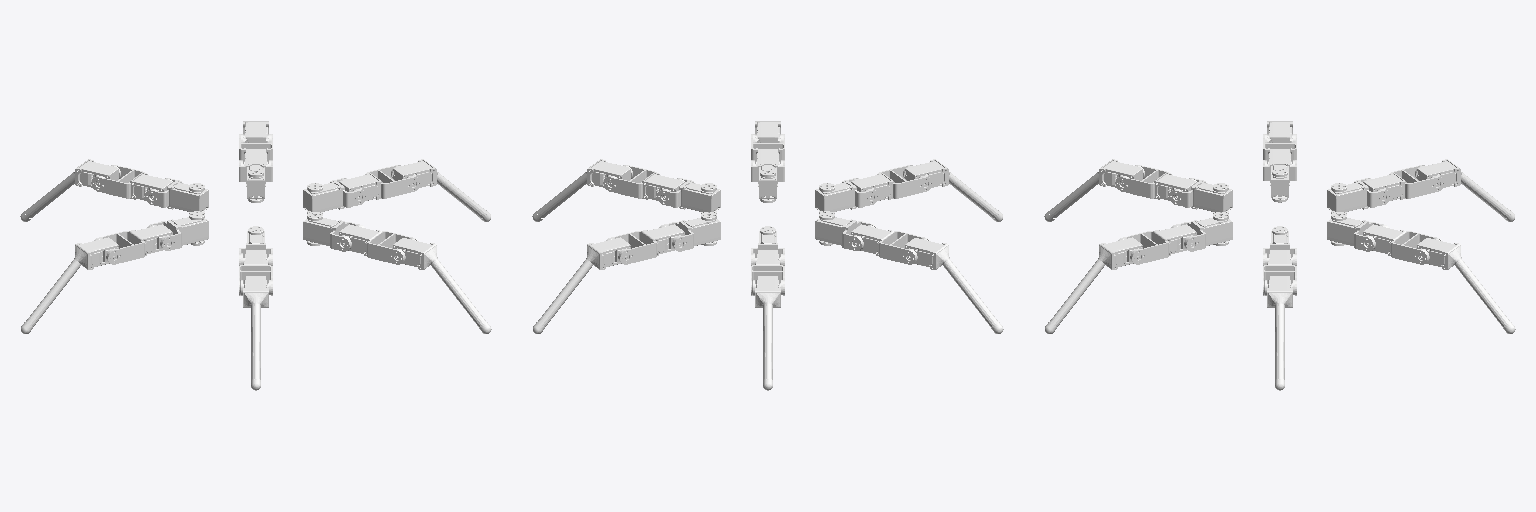
URDF robot description (grasp_hexapod):
<?xml version="1.0" encoding="utf-8"?>
<!-- This URDF was automatically created by SolidWorks to URDF Exporter! Originally created by Stephen Brawner (brawner@gmail.com) 
     Commit Version: 1.6.0-4-g7f85cfe  Build Version: 1.6.7995.38578
     For more information, please see http://wiki.ros.org/sw_urdf_exporter -->
<robot
  name="grasp_hexapod">
  <link
    name="base_link">
    <inertial>
      <origin
        xyz="0.00048381 0.0032191 0.050559"
        rpy="0 0 0" />
      <mass
        value="3" />
      <inertia
        ixx="0.00045119"
        ixy="1.4679E-06"
        ixz="-1.2424E-07"
        iyy="0.00050737"
        iyz="-7.1838E-07"
        izz="0.00089983" />
    </inertial>
    <visual>
      <origin
        xyz="0 0 0"
        rpy="0 0 0" />
      <geometry>
        <mesh
          filename="../meshes/body_link.STL" />
      </geometry>
      <material
        name="">
        <color
          rgba="1 1 1 1" />
      </material>
    </visual>
    <collision>
      <origin
        xyz="0 0 0"
        rpy="0 0 0" />
      <geometry>
        <mesh
          filename="../meshes/body_link.STL" />
      </geometry>
    </collision>
  </link>
  <link
    name="lf_thigh_Link">
    <inertial>
      <origin
        xyz="0.019013 0.00032996 0.00086404"
        rpy="0 0 0" />
      <mass
        value="0.071" />
      <inertia
        ixx="2.5711E-06"
        ixy="1.9851E-08"
        ixz="-8.344E-08"
        iyy="2.9345E-06"
        iyz="-5.4072E-09"
        izz="4.3664E-06" />
    </inertial>
    <visual>
      <origin
        xyz="0 0 0"
        rpy="0 0 0" />
      <geometry>
        <mesh
          filename="../meshes/thigh_link.STL" />
      </geometry>
      <material
        name="">
        <color
          rgba="1 1 1 1" />
      </material>
    </visual>
    <collision>
      <origin
        xyz="0 0 0"
        rpy="0 0 0" />
      <geometry>
        <mesh
          filename="../meshes/thigh_link.STL" />
      </geometry>
    </collision>
  </link>
  <joint
    name="lf_thigh_joint"
    type="revolute">
    <origin
      xyz="-0.0425 0.073612 0.025246"
      rpy="0 0 2.0944" />
    <parent
      link="base_link" />
    <child
      link="lf_thigh_Link" />
    <axis
      xyz="0 0 -1" />
    <limit
      lower="-1.571"
      upper="0.698"
      effort="1.2"
      velocity="4" />
  </joint>
  <link
    name="lf_knee_Link">
    <inertial>
      <origin
        xyz="0.024 0.00029496 0.00079694"
        rpy="0 0 0" />
      <mass
        value="0.079" />
      <inertia
        ixx="3.459E-06"
        ixy="1.9852E-08"
        ixz="-8.3439E-08"
        iyy="6.155E-06"
        iyz="-5.4073E-09"
        izz="4.8098E-06" />
    </inertial>
    <visual>
      <origin
        xyz="0 0 0"
        rpy="0 0 0" />
      <geometry>
        <mesh
          filename="../meshes/knee_link.STL" />
      </geometry>
      <material
        name="">
        <color
          rgba="1 1 1 1" />
      </material>
    </visual>
    <collision>
      <origin
        xyz="0 0 0"
        rpy="0 0 0" />
      <geometry>
        <mesh
          filename="../meshes/knee_link.STL" />
      </geometry>
    </collision>
  </link>
  <joint
    name="lf_knee_joint"
    type="revolute">
    <origin
      xyz="0.05236 0 0"
      rpy="1.5708 0 0" />
    <parent
      link="lf_thigh_Link" />
    <child
      link="lf_knee_Link" />
    <axis
      xyz="0 0 -1" />
    <limit
      lower="-2.094"
      upper="2.094"
      effort="1.2"
      velocity="4" />
  </joint>
  <link
    name="lf_ankle_Link">
    <inertial>
      <origin
        xyz="0.037761 -0.014128 0.0005095"
        rpy="0 0 0" />
      <mass
        value="0.092" />
      <inertia
        ixx="9.9997E-06"
        ixy="8.2892E-06"
        ixz="-8.347E-08"
        iyy="1.1276E-05"
        iyz="-5.3773E-09"
        izz="1.9753E-05" />
    </inertial>
    <visual>
      <origin
        xyz="0 0 0"
        rpy="0 0 0" />
      <geometry>
        <mesh
          filename="../meshes/ankle_link.STL" />
      </geometry>
      <material
        name="">
        <color
          rgba="1 1 1 1" />
      </material>
    </visual>
    <collision>
      <origin
        xyz="0 0 0"
        rpy="0 0 0" />
      <geometry>
        <mesh
          filename="../meshes/ankle_link.STL" />
      </geometry>
    </collision>
  </link>
  <joint
    name="lf_ankle_joint"
    type="revolute">
    <origin
      xyz="0.07745 0 0.00015"
      rpy="0 0 0" />
    <parent
      link="lf_knee_Link" />
    <child
      link="lf_ankle_Link" />
    <axis
      xyz="0 0 -1" />
    <limit
      lower="-2.094"
      upper="2.094"
      effort="1.2"
      velocity="4" />
  </joint>
  <link
    name="lm_thigh_Link">
    <inertial>
      <origin
        xyz="0.019013 0.00032996 0.00011404"
        rpy="0 0 0" />
      <mass
        value="0.071" />
      <inertia
        ixx="2.5711E-06"
        ixy="1.9851E-08"
        ixz="-8.344E-08"
        iyy="2.9345E-06"
        iyz="-5.4072E-09"
        izz="4.3664E-06" />
    </inertial>
    <visual>
      <origin
        xyz="0 0 0"
        rpy="0 0 0" />
      <geometry>
        <mesh
          filename="../meshes/thigh_link.STL" />
      </geometry>
      <material
        name="">
        <color
          rgba="1 1 1 1" />
      </material>
    </visual>
    <collision>
      <origin
        xyz="0 0 0"
        rpy="0 0 0" />
      <geometry>
        <mesh
          filename="../meshes/thigh_link.STL" />
      </geometry>
    </collision>
  </link>
  <joint
    name="lm_thigh_joint"
    type="revolute">
    <origin
      xyz="-0.085 0 0.025996"
      rpy="0 0 -3.1416" />
    <parent
      link="base_link" />
    <child
      link="lm_thigh_Link" />
    <axis
      xyz="0 0 -1" />
    <limit
      lower="-0.698"
      upper="0.698"
      effort="1.2"
      velocity="4" />
  </joint>
  <link
    name="lm_knee_Link">
    <inertial>
      <origin
        xyz="0.024 0.00029496 0.00084693"
        rpy="0 0 0" />
      <mass
        value="0.079" />
      <inertia
        ixx="3.459E-06"
        ixy="1.9851E-08"
        ixz="-8.344E-08"
        iyy="6.155E-06"
        iyz="-5.4071E-09"
        izz="4.8098E-06" />
    </inertial>
    <visual>
      <origin
        xyz="0 0 0"
        rpy="0 0 0" />
      <geometry>
        <mesh
          filename="../meshes/knee_link.STL" />
      </geometry>
      <material
        name="">
        <color
          rgba="1 1 1 1" />
      </material>
    </visual>
    <collision>
      <origin
        xyz="0 0 0"
        rpy="0 0 0" />
      <geometry>
        <mesh
          filename="../meshes/knee_link.STL" />
      </geometry>
    </collision>
  </link>
  <joint
    name="lm_knee_joint"
    type="revolute">
    <origin
      xyz="0.05236 4.5E-05 -0.00075"
      rpy="1.5708 0 0" />
    <parent
      link="lm_thigh_Link" />
    <child
      link="lm_knee_Link" />
    <axis
      xyz="0 0 -1" />
    <limit
      lower="-2.094"
      upper="2.094"
      effort="1.2"
      velocity="4" />
  </joint>
  <link
    name="lm_ankle_Link">
    <inertial>
      <origin
        xyz="0.037761 -0.014128 0.00050942"
        rpy="0 0 0" />
      <mass
        value="0.092" />
      <inertia
        ixx="9.9998E-06"
        ixy="8.2893E-06"
        ixz="-8.3442E-08"
        iyy="1.1276E-05"
        iyz="-5.4062E-09"
        izz="1.9753E-05" />
    </inertial>
    <visual>
      <origin
        xyz="0 0 0"
        rpy="0 0 0" />
      <geometry>
        <mesh
          filename="../meshes/ankle_link.STL" />
      </geometry>
      <material
        name="">
        <color
          rgba="1 1 1 1" />
      </material>
    </visual>
    <collision>
      <origin
        xyz="0 0 0"
        rpy="0 0 0" />
      <geometry>
        <mesh
          filename="../meshes/ankle_link.STL" />
      </geometry>
    </collision>
  </link>
  <joint
    name="lm_ankle_joint"
    type="revolute">
    <origin
      xyz="0.07745 0 0.0002"
      rpy="0 0 0" />
    <parent
      link="lm_knee_Link" />
    <child
      link="lm_ankle_Link" />
    <axis
      xyz="0 0 -1" />
    <limit
      lower="-2.094"
      upper="2.094"
      effort="1.2"
      velocity="4" />
  </joint>
  <link
    name="lb_thigh_Link">
    <inertial>
      <origin
        xyz="0.019013 0.00032996 0.00086404"
        rpy="0 0 0" />
      <mass
        value="0.071" />
      <inertia
        ixx="2.5711E-06"
        ixy="1.9851E-08"
        ixz="-8.344E-08"
        iyy="2.9345E-06"
        iyz="-5.4072E-09"
        izz="4.3664E-06" />
    </inertial>
    <visual>
      <origin
        xyz="0 0 0"
        rpy="0 0 0" />
      <geometry>
        <mesh
          filename="../meshes/thigh_link.STL" />
      </geometry>
      <material
        name="">
        <color
          rgba="1 1 1 1" />
      </material>
    </visual>
    <collision>
      <origin
        xyz="0 0 0"
        rpy="0 0 0" />
      <geometry>
        <mesh
          filename="../meshes/thigh_link.STL" />
      </geometry>
    </collision>
  </link>
  <joint
    name="lb_thigh_joint"
    type="revolute">
    <origin
      xyz="-0.0425 -0.073612 0.025246"
      rpy="0 0 -2.0944" />
    <parent
      link="base_link" />
    <child
      link="lb_thigh_Link" />
    <axis
      xyz="0 0 -1" />
    <limit
      lower="-0.698"
      upper="1.571"
      effort="1.2"
      velocity="4" />
  </joint>
  <link
    name="lb_knee_Link">
    <inertial>
      <origin
        xyz="0.024 0.00029496 0.00084694"
        rpy="0 0 0" />
      <mass
        value="0.079" />
      <inertia
        ixx="3.459E-06"
        ixy="1.9852E-08"
        ixz="-8.3441E-08"
        iyy="6.155E-06"
        iyz="-5.4075E-09"
        izz="4.8098E-06" />
    </inertial>
    <visual>
      <origin
        xyz="0 0 0"
        rpy="0 0 0" />
      <geometry>
        <mesh
          filename="../meshes/knee_link.STL" />
      </geometry>
      <material
        name="">
        <color
          rgba="1 1 1 1" />
      </material>
    </visual>
    <collision>
      <origin
        xyz="0 0 0"
        rpy="0 0 0" />
      <geometry>
        <mesh
          filename="../meshes/knee_link.STL" />
      </geometry>
    </collision>
  </link>
  <joint
    name="lb_knee_joint"
    type="revolute">
    <origin
      xyz="0.05236 4.5E-05 0"
      rpy="1.5708 0 0" />
    <parent
      link="lb_thigh_Link" />
    <child
      link="lb_knee_Link" />
    <axis
      xyz="0 0 -1" />
    <limit
      lower="-2.094"
      upper="2.094"
      effort="1.2"
      velocity="4" />
  </joint>
  <link
    name="lb_ankle_Link">
    <inertial>
      <origin
        xyz="0.037761 -0.014128 0.00050936"
        rpy="0 0 0" />
      <mass
        value="0.092" />
      <inertia
        ixx="9.9996E-06"
        ixy="8.2892E-06"
        ixz="-8.3419E-08"
        iyy="1.1276E-05"
        iyz="-5.4295E-09"
        izz="1.9753E-05" />
    </inertial>
    <visual>
      <origin
        xyz="0 0 0"
        rpy="0 0 0" />
      <geometry>
        <mesh
          filename="../meshes/ankle_link.STL" />
      </geometry>
      <material
        name="">
        <color
          rgba="1 1 1 1" />
      </material>
    </visual>
    <collision>
      <origin
        xyz="0 0 0"
        rpy="0 0 0" />
      <geometry>
        <mesh
          filename="../meshes/ankle_link.STL" />
      </geometry>
    </collision>
  </link>
  <joint
    name="lb_ankle_joint"
    type="revolute">
    <origin
      xyz="0.07745 0 0.0002"
      rpy="0 0 0" />
    <parent
      link="lb_knee_Link" />
    <child
      link="lb_ankle_Link" />
    <axis
      xyz="0 0 -1" />
    <limit
      lower="-2.094"
      upper="2.094"
      effort="1.2"
      velocity="4" />
  </joint>
  <link
    name="rf_thigh_Link">
    <inertial>
      <origin
        xyz="0.019013 0.00032996 0.00086404"
        rpy="0 0 0" />
      <mass
        value="0.071" />
      <inertia
        ixx="2.5711E-06"
        ixy="1.9851E-08"
        ixz="-8.344E-08"
        iyy="2.9345E-06"
        iyz="-5.4072E-09"
        izz="4.3664E-06" />
    </inertial>
    <visual>
      <origin
        xyz="0 0 0"
        rpy="0 0 0" />
      <geometry>
        <mesh
          filename="../meshes/thigh_link.STL" />
      </geometry>
      <material
        name="">
        <color
          rgba="1 1 1 1" />
      </material>
    </visual>
    <collision>
      <origin
        xyz="0 0 0"
        rpy="0 0 0" />
      <geometry>
        <mesh
          filename="../meshes/thigh_link.STL" />
      </geometry>
    </collision>
  </link>
  <joint
    name="rf_thigh_joint"
    type="revolute">
    <origin
      xyz="0.0425 0.073612 0.025246"
      rpy="0 0 1.0472" />
    <parent
      link="base_link" />
    <child
      link="rf_thigh_Link" />
    <axis
      xyz="0 0 -1" />
    <limit
      lower="-0.698"
      upper="1.571"
      effort="1.2"
      velocity="4" />
  </joint>
  <link
    name="rf_knee_Link">
    <inertial>
      <origin
        xyz="0.024 0.00029496 0.00084694"
        rpy="0 0 0" />
      <mass
        value="0.079" />
      <inertia
        ixx="3.459E-06"
        ixy="1.9852E-08"
        ixz="-8.3441E-08"
        iyy="6.155E-06"
        iyz="-5.4075E-09"
        izz="4.8098E-06" />
    </inertial>
    <visual>
      <origin
        xyz="0 0 0"
        rpy="0 0 0" />
      <geometry>
        <mesh
          filename="../meshes/knee_link.STL" />
      </geometry>
      <material
        name="">
        <color
          rgba="1 1 1 1" />
      </material>
    </visual>
    <collision>
      <origin
        xyz="0 0 0"
        rpy="0 0 0" />
      <geometry>
        <mesh
          filename="../meshes/knee_link.STL" />
      </geometry>
    </collision>
  </link>
  <joint
    name="rf_knee_joint"
    type="revolute">
    <origin
      xyz="0.05236 4.5E-05 0"
      rpy="1.5708 0 0" />
    <parent
      link="rf_thigh_Link" />
    <child
      link="rf_knee_Link" />
    <axis
      xyz="0 0 1" />
    <limit
      lower="-2.094"
      upper="2.094"
      effort="1.2"
      velocity="4" />
  </joint>
  <link
    name="rf_ankle_Link">
    <inertial>
      <origin
        xyz="0.037761 -0.014128 0.00050936"
        rpy="0 0 0" />
      <mass
        value="0.092" />
      <inertia
        ixx="9.9996E-06"
        ixy="8.2892E-06"
        ixz="-8.3419E-08"
        iyy="1.1276E-05"
        iyz="-5.4295E-09"
        izz="1.9753E-05" />
    </inertial>
    <visual>
      <origin
        xyz="0 0 0"
        rpy="0 0 0" />
      <geometry>
        <mesh
          filename="../meshes/ankle_link.STL" />
      </geometry>
      <material
        name="">
        <color
          rgba="1 1 1 1" />
      </material>
    </visual>
    <collision>
      <origin
        xyz="0 0 0"
        rpy="0 0 0" />
      <geometry>
        <mesh
          filename="../meshes/ankle_link.STL" />
      </geometry>
    </collision>
  </link>
  <joint
    name="rf_ankle_joint"
    type="revolute">
    <origin
      xyz="0.07745 0 0.0002"
      rpy="0 0 0" />
    <parent
      link="rf_knee_Link" />
    <child
      link="rf_ankle_Link" />
    <axis
      xyz="0 0 1" />
    <limit
      lower="-2.094"
      upper="2.094"
      effort="1.2"
      velocity="4" />
  </joint>
  <link
    name="rm_thigh_Link">
    <inertial>
      <origin
        xyz="0.019013 0.00032996 0.00086404"
        rpy="0 0 0" />
      <mass
        value="0.071" />
      <inertia
        ixx="2.5711E-06"
        ixy="1.9851E-08"
        ixz="-8.344E-08"
        iyy="2.9345E-06"
        iyz="-5.4071E-09"
        izz="4.3664E-06" />
    </inertial>
    <visual>
      <origin
        xyz="0 0 0"
        rpy="0 0 0" />
      <geometry>
        <mesh
          filename="../meshes/thigh_link.STL" />
      </geometry>
      <material
        name="">
        <color
          rgba="1 1 1 1" />
      </material>
    </visual>
    <collision>
      <origin
        xyz="0 0 0"
        rpy="0 0 0" />
      <geometry>
        <mesh
          filename="../meshes/thigh_link.STL" />
      </geometry>
    </collision>
  </link>
  <joint
    name="rm_thigh_joint"
    type="revolute">
    <origin
      xyz="0.085 0 0.025246"
      rpy="0 0 0" />
    <parent
      link="base_link" />
    <child
      link="rm_thigh_Link" />
    <axis
      xyz="0 0 -1" />
    <limit
      lower="-0.698"
      upper="0.698"
      effort="1.2"
      velocity="4" />
  </joint>
  <link
    name="rm_knee_Link">
    <inertial>
      <origin
        xyz="0.024 0.00029496 0.00084693"
        rpy="0 0 0" />
      <mass
        value="0.079" />
      <inertia
        ixx="3.459E-06"
        ixy="1.9851E-08"
        ixz="-8.344E-08"
        iyy="6.155E-06"
        iyz="-5.4071E-09"
        izz="4.8098E-06" />
    </inertial>
    <visual>
      <origin
        xyz="0 0 0"
        rpy="0 0 0" />
      <geometry>
        <mesh
          filename="../meshes/knee_link.STL" />
      </geometry>
      <material
        name="">
        <color
          rgba="1 1 1 1" />
      </material>
    </visual>
    <collision>
      <origin
        xyz="0 0 0"
        rpy="0 0 0" />
      <geometry>
        <mesh
          filename="../meshes/knee_link.STL" />
      </geometry>
    </collision>
  </link>
  <joint
    name="rm_knee_joint"
    type="revolute">
    <origin
      xyz="0.05236 4.5E-05 0"
      rpy="1.5708 0 0" />
    <parent
      link="rm_thigh_Link" />
    <child
      link="rm_knee_Link" />
    <axis
      xyz="0 0 1" />
    <limit
      lower="-2.094"
      upper="2.094"
      effort="1.2"
      velocity="4" />
  </joint>
  <link
    name="rm_ankle_Link">
    <inertial>
      <origin
        xyz="0.037761 -0.014128 0.00050942"
        rpy="0 0 0" />
      <mass
        value="0.092" />
      <inertia
        ixx="9.9998E-06"
        ixy="8.2893E-06"
        ixz="-8.3442E-08"
        iyy="1.1276E-05"
        iyz="-5.4062E-09"
        izz="1.9753E-05" />
    </inertial>
    <visual>
      <origin
        xyz="0 0 0"
        rpy="0 0 0" />
      <geometry>
        <mesh
          filename="../meshes/ankle_link.STL" />
      </geometry>
      <material
        name="">
        <color
          rgba="1 1 1 1" />
      </material>
    </visual>
    <collision>
      <origin
        xyz="0 0 0"
        rpy="0 0 0" />
      <geometry>
        <mesh
          filename="../meshes/ankle_link.STL" />
      </geometry>
    </collision>
  </link>
  <joint
    name="rm_ankle_joint"
    type="revolute">
    <origin
      xyz="0.07745 0 0.0002"
      rpy="0 0 0" />
    <parent
      link="rm_knee_Link" />
    <child
      link="rm_ankle_Link" />
    <axis
      xyz="0 0 1" />
    <limit
      lower="-2.094"
      upper="2.094"
      effort="1.2"
      velocity="4" />
  </joint>
  <link
    name="rb_thigh_Link">
    <inertial>
      <origin
        xyz="0.019013 0.00032996 0.00086404"
        rpy="0 0 0" />
      <mass
        value="0.071" />
      <inertia
        ixx="2.5711E-06"
        ixy="1.9851E-08"
        ixz="-8.344E-08"
        iyy="2.9345E-06"
        iyz="-5.4072E-09"
        izz="4.3664E-06" />
    </inertial>
    <visual>
      <origin
        xyz="0 0 0"
        rpy="0 0 0" />
      <geometry>
        <mesh
          filename="../meshes/thigh_link.STL" />
      </geometry>
      <material
        name="">
        <color
          rgba="1 1 1 1" />
      </material>
    </visual>
    <collision>
      <origin
        xyz="0 0 0"
        rpy="0 0 0" />
      <geometry>
        <mesh
          filename="../meshes/thigh_link.STL" />
      </geometry>
    </collision>
  </link>
  <joint
    name="rb_thigh_joint"
    type="revolute">
    <origin
      xyz="0.0425 -0.073612 0.025246"
      rpy="0 0 -1.0472" />
    <parent
      link="base_link" />
    <child
      link="rb_thigh_Link" />
    <axis
      xyz="0 0 -1" />
    <limit
      lower="-1.571"
      upper="0.698"
      effort="1.2"
      velocity="4" />
  </joint>
  <link
    name="rb_knee_Link">
    <inertial>
      <origin
        xyz="0.024 0.00029496 0.00084694"
        rpy="0 0 0" />
      <mass
        value="0.079" />
      <inertia
        ixx="3.459E-06"
        ixy="1.9852E-08"
        ixz="-8.3439E-08"
        iyy="6.155E-06"
        iyz="-5.4073E-09"
        izz="4.8098E-06" />
    </inertial>
    <visual>
      <origin
        xyz="0 0 0"
        rpy="0 0 0" />
      <geometry>
        <mesh
          filename="../meshes/knee_link.STL" />
      </geometry>
      <material
        name="">
        <color
          rgba="1 1 1 1" />
      </material>
    </visual>
    <collision>
      <origin
        xyz="0 0 0"
        rpy="0 0 0" />
      <geometry>
        <mesh
          filename="../meshes/knee_link.STL" />
      </geometry>
    </collision>
  </link>
  <joint
    name="rb_knee_joint"
    type="revolute">
    <origin
      xyz="0.05236 4.5E-05 0"
      rpy="1.5708 0 0" />
    <parent
      link="rb_thigh_Link" />
    <child
      link="rb_knee_Link" />
    <axis
      xyz="0 0 1" />
    <limit
      lower="-2.094"
      upper="2.094"
      effort="1.2"
      velocity="4" />
  </joint>
  <link
    name="rb_ankle_Link">
    <inertial>
      <origin
        xyz="0.037761 -0.014128 0.00050943"
        rpy="0 0 0" />
      <mass
        value="0.092" />
      <inertia
        ixx="9.9998E-06"
        ixy="8.2893E-06"
        ixz="-8.3441E-08"
        iyy="1.1276E-05"
        iyz="-5.4067E-09"
        izz="1.9753E-05" />
    </inertial>
    <visual>
      <origin
        xyz="0 0 0"
        rpy="0 0 0" />
      <geometry>
        <mesh
          filename="../meshes/ankle_link.STL" />
      </geometry>
      <material
        name="">
        <color
          rgba="1 1 1 1" />
      </material>
    </visual>
    <collision>
      <origin
        xyz="0 0 0"
        rpy="0 0 0" />
      <geometry>
        <mesh
          filename="../meshes/ankle_link.STL" />
      </geometry>
    </collision>
  </link>
  <joint
    name="rb_ankle_joint"
    type="revolute">
    <origin
      xyz="0.07745 0 0.0002"
      rpy="0 0 0" />
    <parent
      link="rb_knee_Link" />
    <child
      link="rb_ankle_Link" />
    <axis
      xyz="0 0 1" />
    <limit
      lower="-2.094"
      upper="2.094"
      effort="1.2"
      velocity="4" />
  </joint>
</robot>

--- What the picture shows (computed from the rendered views, not written in the file) ---
The picture shows the robot from 3 angles, left to right: view 1: azimuth 30°, elevation 25°; view 2: azimuth 150°, elevation 25°; view 3: azimuth 270°, elevation 25°; orthographic projection.
Robot: grasp_hexapod — 19 links, 18 joints (18 revolute); root link base_link; default pose: all joints at 0.
Visible links, largest first — view 1: lm_ankle_Link, rb_ankle_Link, lb_ankle_Link, rb_knee_Link, lm_knee_Link, lf_knee_Link, rm_knee_Link, lf_ankle_Link, rm_ankle_Link, rm_thigh_Link, lf_thigh_Link, lm_thigh_Link (+6 smaller); view 2: rf_ankle_Link, lm_ankle_Link, lf_ankle_Link, lm_knee_Link, rf_knee_Link, rm_knee_Link, lb_knee_Link, rm_ankle_Link, lb_ankle_Link, rm_thigh_Link, lb_thigh_Link, lm_thigh_Link (+6 smaller); view 3: rb_ankle_Link, rf_ankle_Link, rm_ankle_Link, rf_knee_Link, rb_knee_Link, lb_knee_Link, lf_knee_Link, lb_ankle_Link, lf_ankle_Link, lf_thigh_Link, lb_thigh_Link, rf_thigh_Link (+6 smaller).
Boxes of the visible links, x1,y1,x2,y2 form: lm_ankle_Link: (21, 237, 118, 333); rb_ankle_Link: (392, 238, 491, 333); lb_ankle_Link: (240, 276, 270, 390); rb_knee_Link: (339, 224, 417, 264); lm_knee_Link: (94, 224, 173, 264); lf_knee_Link: (91, 165, 172, 200); rm_knee_Link: (339, 165, 420, 200); lf_ankle_Link: (20, 159, 120, 221); rm_ankle_Link: (391, 159, 490, 221); rm_thigh_Link: (303, 178, 366, 213); lf_thigh_Link: (145, 178, 208, 213); lm_thigh_Link: (147, 211, 208, 250); rf_ankle_Link: (533, 237, 630, 333); lm_ankle_Link: (904, 238, 1003, 333); lf_ankle_Link: (752, 276, 782, 390); lm_knee_Link: (850, 224, 929, 264); rf_knee_Link: (606, 224, 684, 264); rm_knee_Link: (603, 165, 684, 200); lb_knee_Link: (851, 165, 932, 200); rm_ankle_Link: (532, 159, 632, 221); lb_ankle_Link: (903, 159, 1002, 221); rm_thigh_Link: (657, 178, 720, 213); lb_thigh_Link: (815, 178, 878, 213); lm_thigh_Link: (815, 211, 876, 250); rb_ankle_Link: (1045, 237, 1142, 333); rf_ankle_Link: (1416, 238, 1515, 333); rm_ankle_Link: (1264, 276, 1294, 390); rf_knee_Link: (1363, 224, 1441, 264); rb_knee_Link: (1118, 224, 1196, 264); lb_knee_Link: (1115, 165, 1196, 200); lf_knee_Link: (1363, 165, 1444, 200); lb_ankle_Link: (1044, 159, 1144, 221); lf_ankle_Link: (1415, 159, 1514, 221); lf_thigh_Link: (1327, 178, 1390, 213); lb_thigh_Link: (1169, 178, 1232, 213); rf_thigh_Link: (1327, 212, 1388, 251).
Bounding box of the posed robot: 0.6758 × 0.5871 × 0.1066 m (x, y, z).
Meshes: 4 distinct files referenced, 18 mesh visuals loaded (3 binary STL); not drawn: 1 (reference not matched to a file when rendering).
